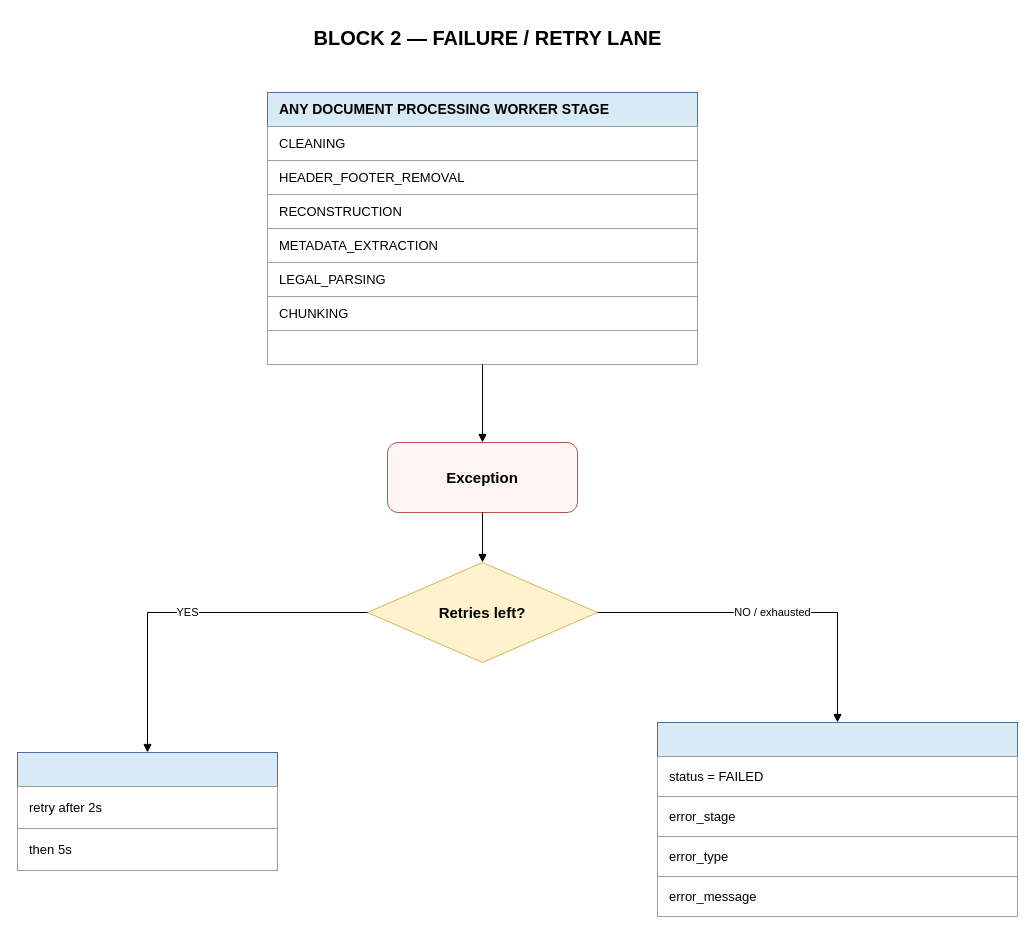
Some shapes in this 1035 by 934 pixel diagram are drawn without their labels. The centre of each missing label's shape, as x and y in pixels:
"PERSISTENCE" belongs at pixel 482 347.
"PostgreSQL — document_processing_jobs" belongs at pixel 837 739.
"RQ RETRY" belongs at pixel 147 769.
